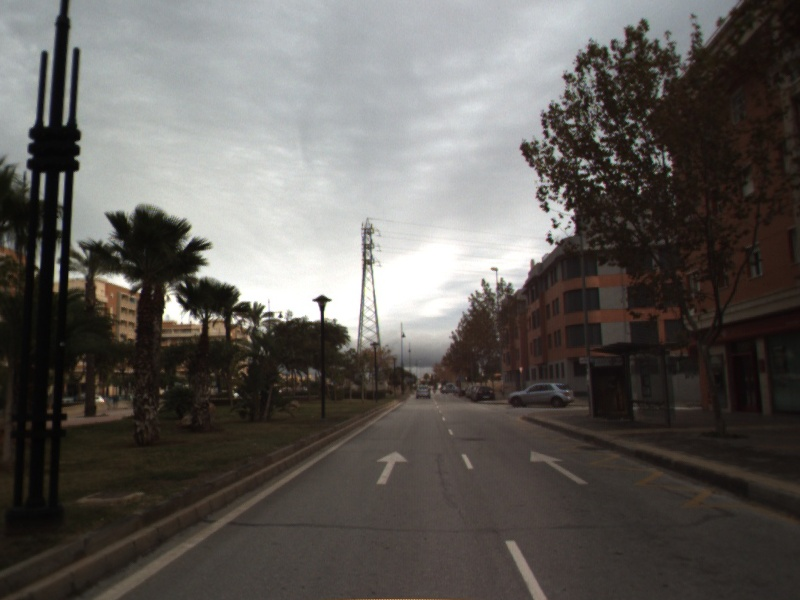STRAIGHT: (528, 448, 591, 486), (374, 449, 410, 486)
